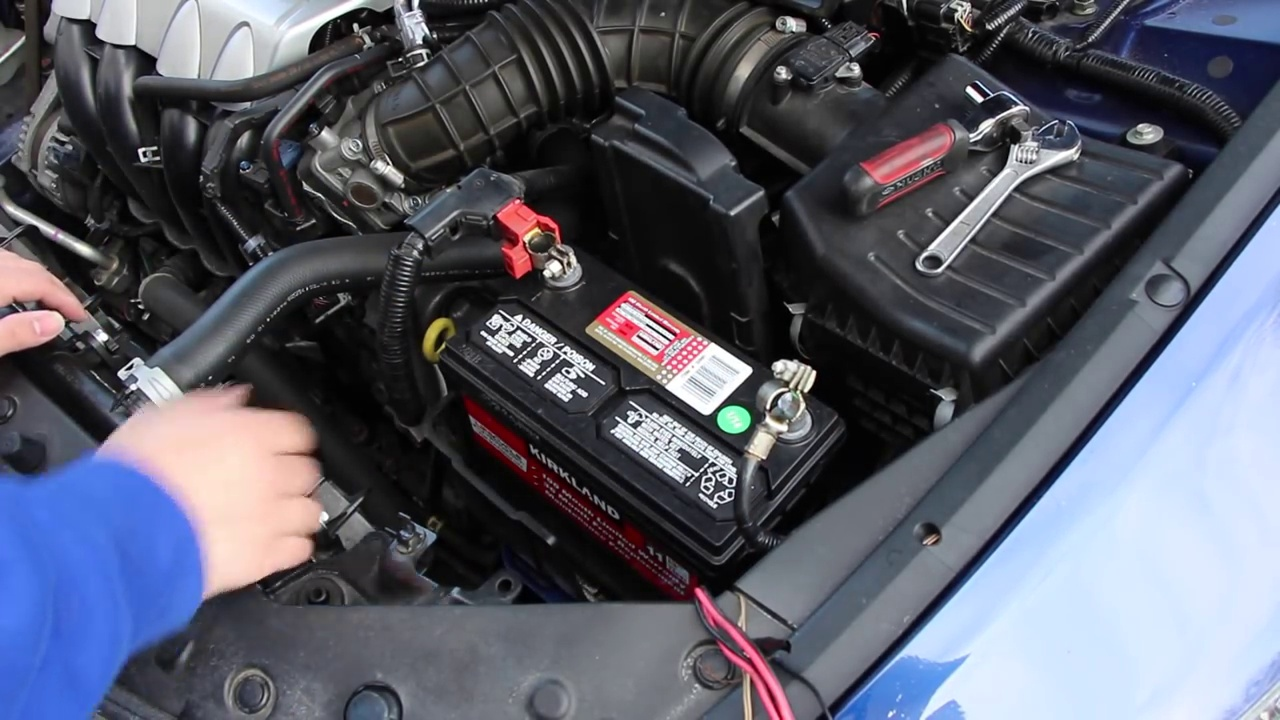battery: (452, 222, 846, 579)
neg_disconnected: (748, 338, 830, 506)
pos_connected: (477, 188, 584, 307)
